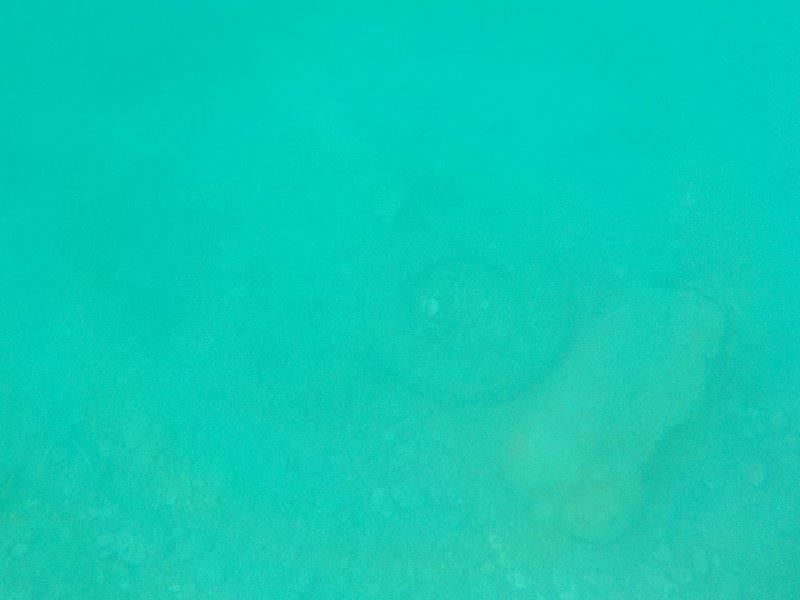tire: (361, 219, 576, 412)
